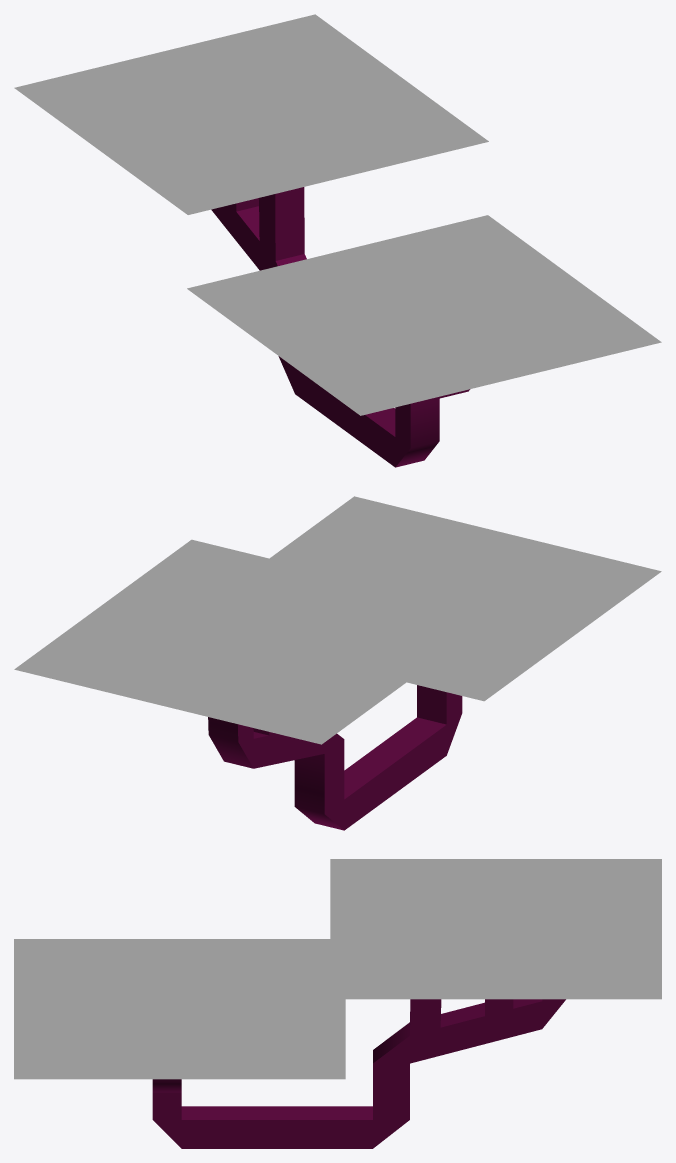
File: step_S.fbx
3 renders of one model, top to bottom at view 1: azimuth 30°, elevation 25°; view 2: azimuth 150°, elevation 25°; view 3: azimuth 270°, elevation 25°, orthographic. The views are drawn at different scales.
Visible parts, largest first — view 1: steps_S; view 2: steps_S; view 3: steps_S.
Part boxes in pixels (bbox=[...]): steps_S: bbox=[14, 14, 661, 467]; steps_S: bbox=[14, 496, 661, 830]; steps_S: bbox=[14, 859, 661, 1148].
Bounding box in the file's own units: 5.77 × 4.06 × 11.03.
